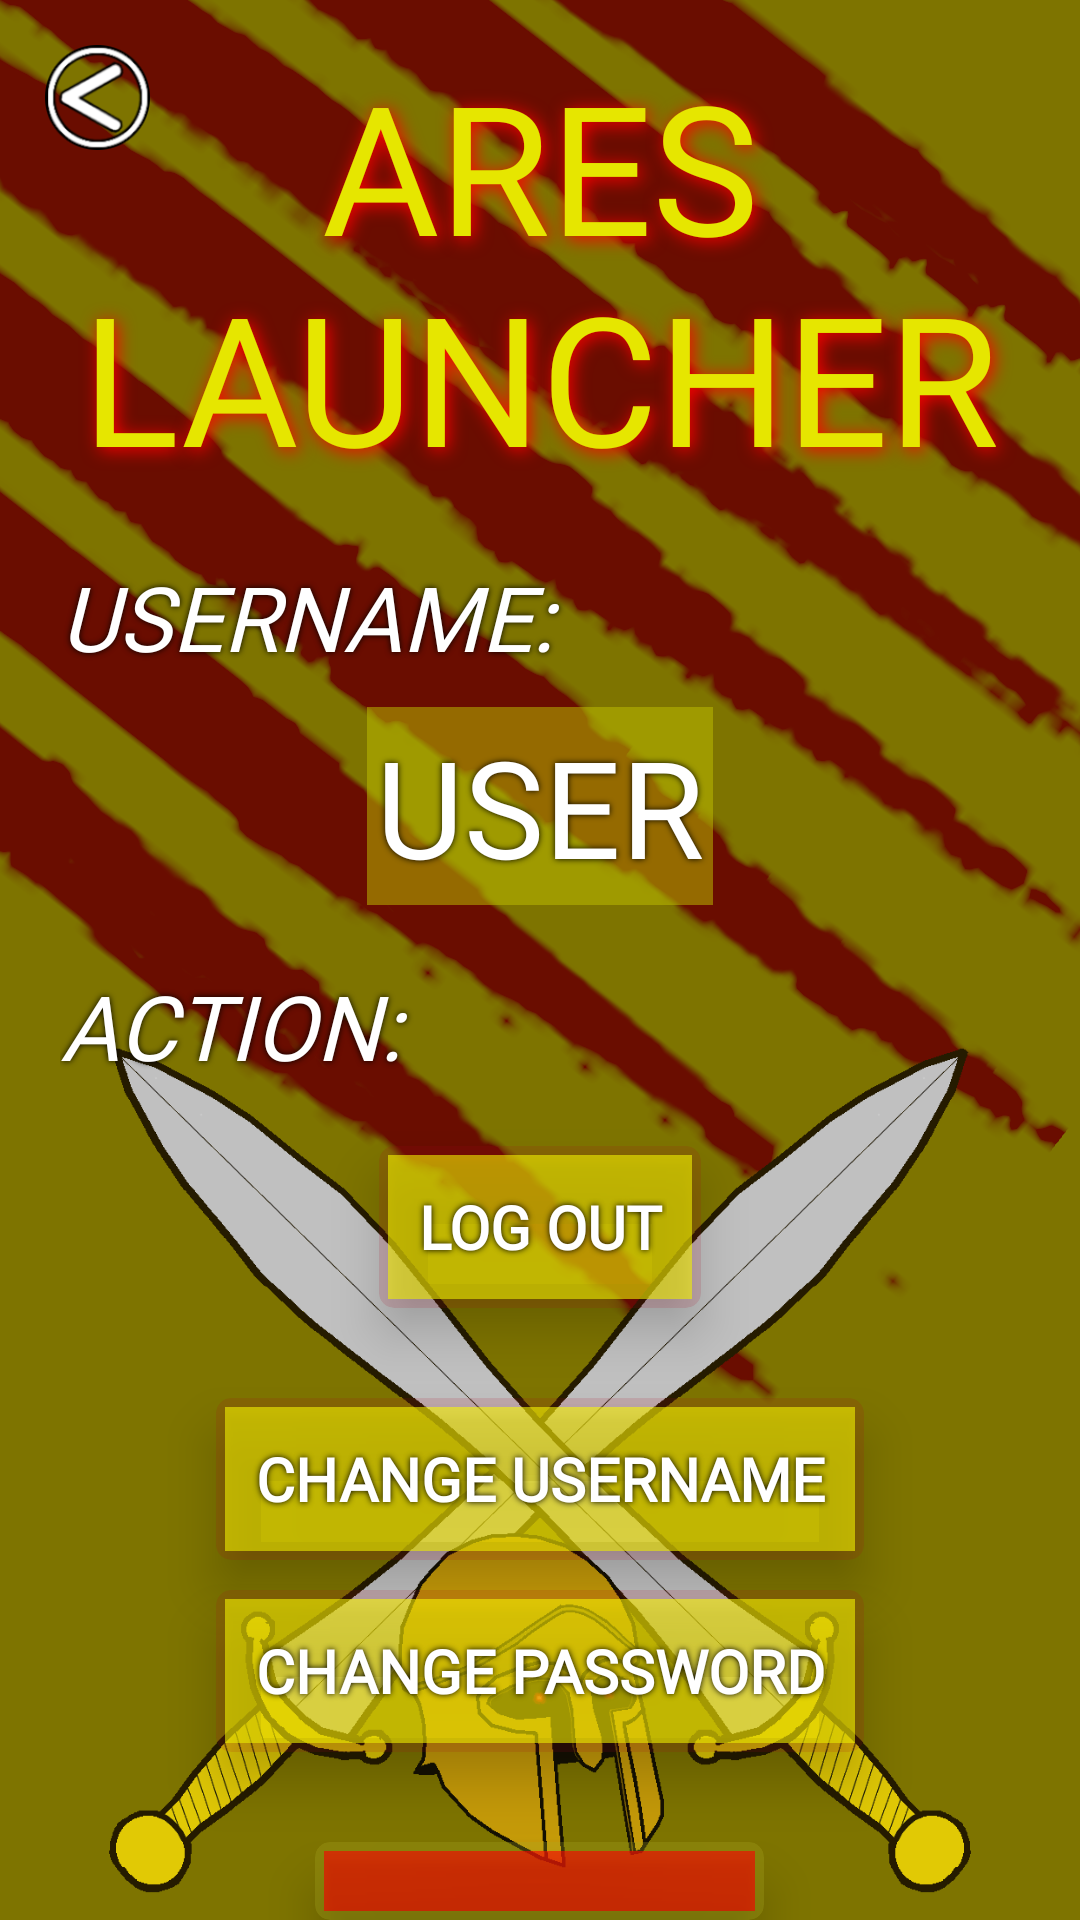

Where icons sit on this 1080w x 1920h app screen, as (x1=x1, y1=y1, x2=x2, y2=y2):
back: (x1=45, y1=45, x2=150, y2=150)
